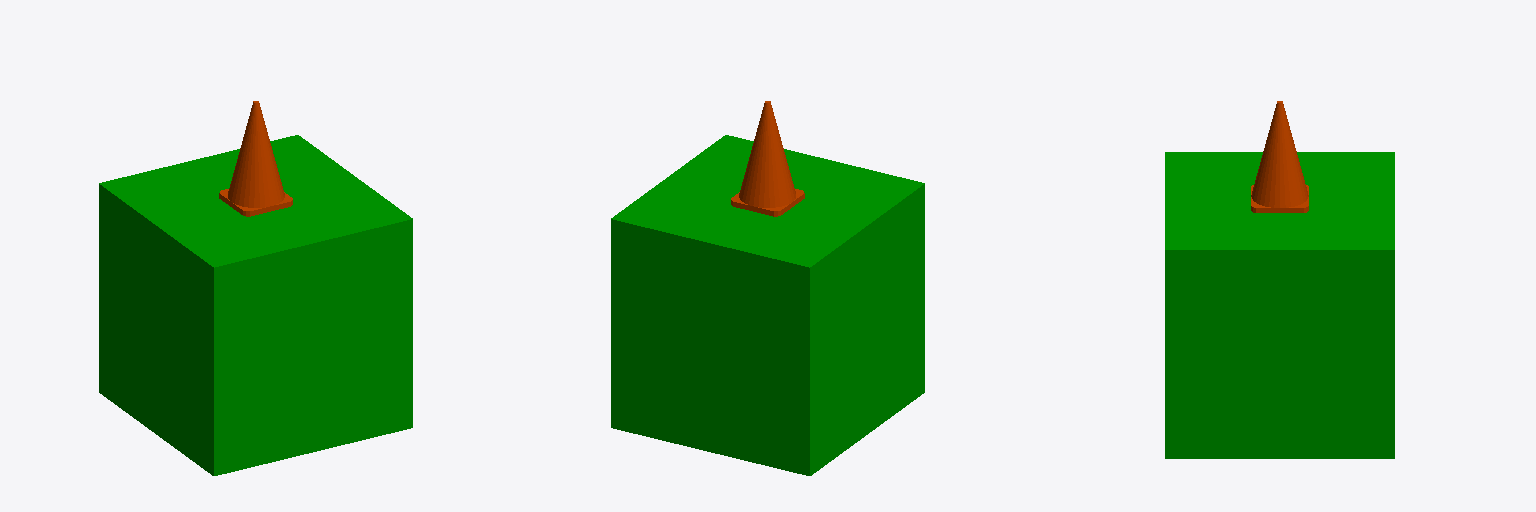
File: Cone4Orange.obj
3 renders of one model, left to right at view 1: azimuth 30°, elevation 25°; view 2: azimuth 150°, elevation 25°; view 3: azimuth 270°, elevation 25°, orthographic.
Parts seen in each view (by area): view 1: Cube; view 2: Cube; view 3: Cube.
Part boxes in pixels (bbox=[...]): Cube: bbox=[99, 101, 412, 475]; Cube: bbox=[611, 101, 924, 475]; Cube: bbox=[1165, 101, 1394, 458].
Size of the model in its own units: 2 by 2.95 by 2.